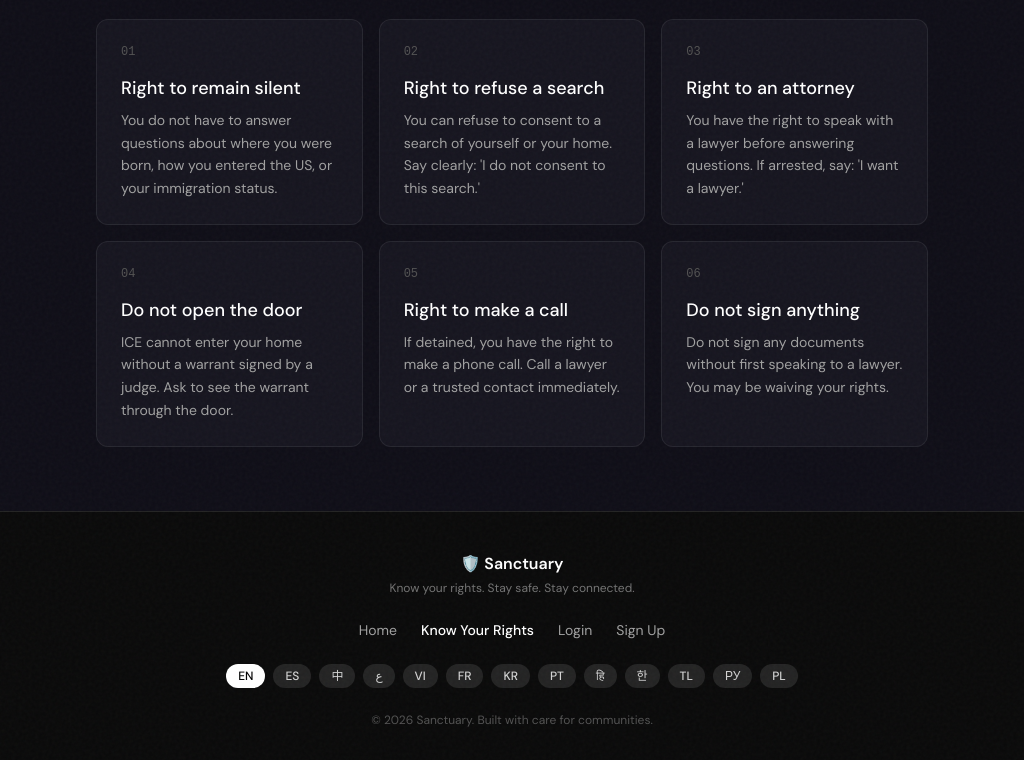
Test case: LanguageContext › the Footer switcher changes the Know Your Rights page language
The width and height of the screenshot is (1024, 760).
(page scrolled)
Click the button "ES".
click(292, 676)  # box left=274, top=664, right=311, bottom=688
(page scrolled)
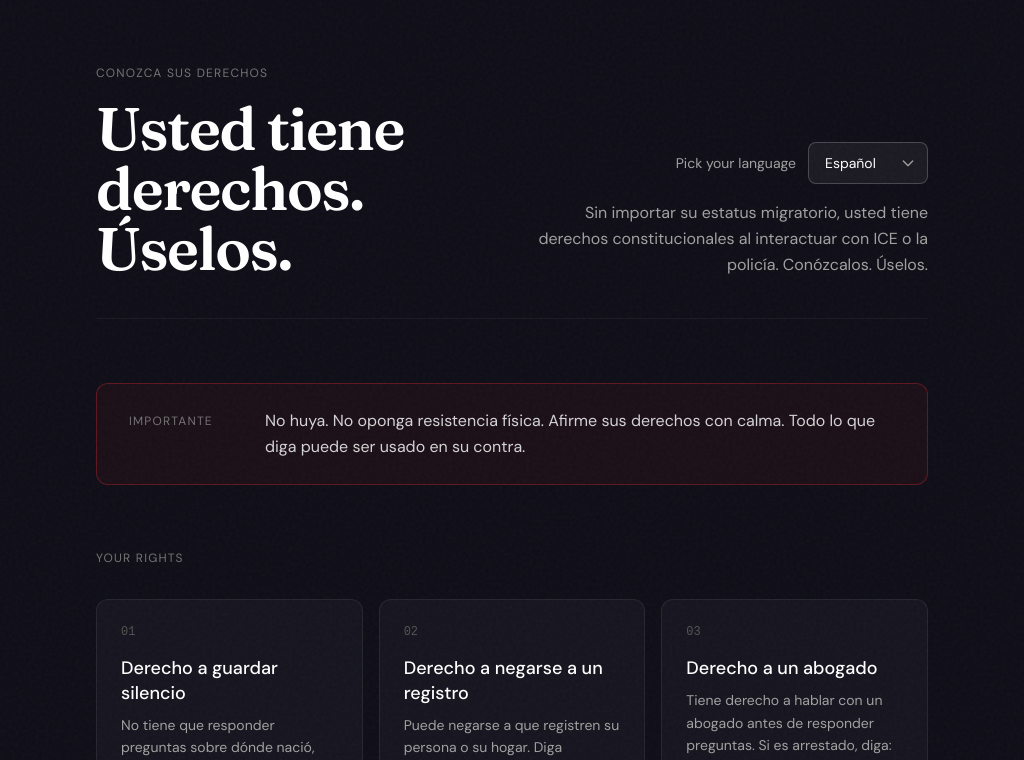
Check: the heading reads "Usted tiene derechos. Úselos.", box left=96, top=91, right=404, bottom=285
